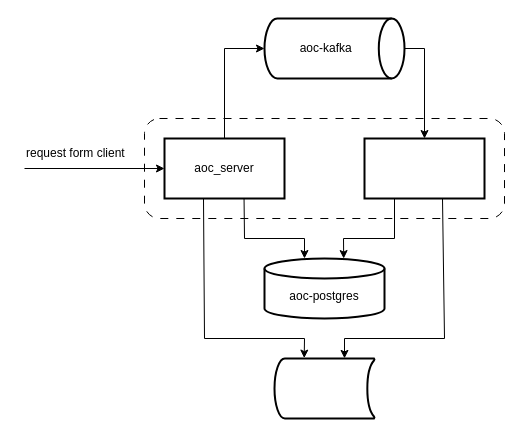
This 522x436 diagram has some shape labels left out. Here are the shapes that lost their labels. From the top down, the box of each, then its label:
(363, 137, 485, 199): aoc_calc
(273, 357, 375, 419): aoc-minio
